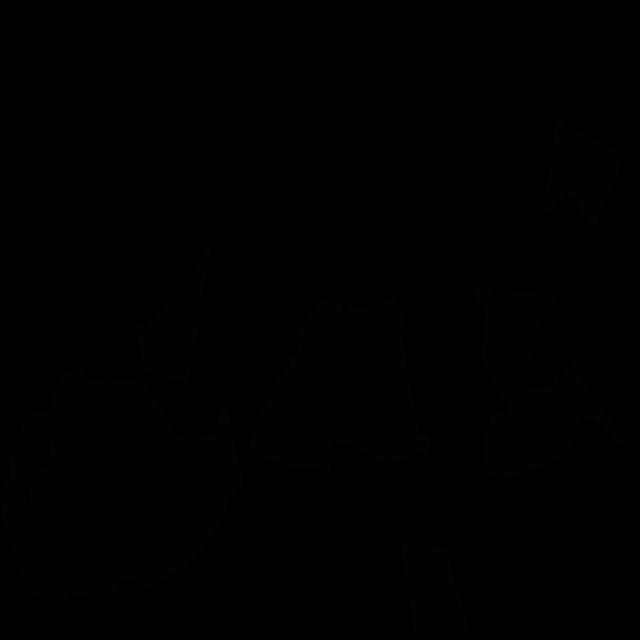cardboard: (0, 368, 228, 603), (295, 299, 431, 465), (482, 358, 636, 480), (135, 237, 214, 383), (246, 355, 331, 472), (471, 287, 556, 403), (550, 115, 624, 228), (401, 541, 472, 640), (180, 402, 243, 499), (540, 166, 566, 213)
